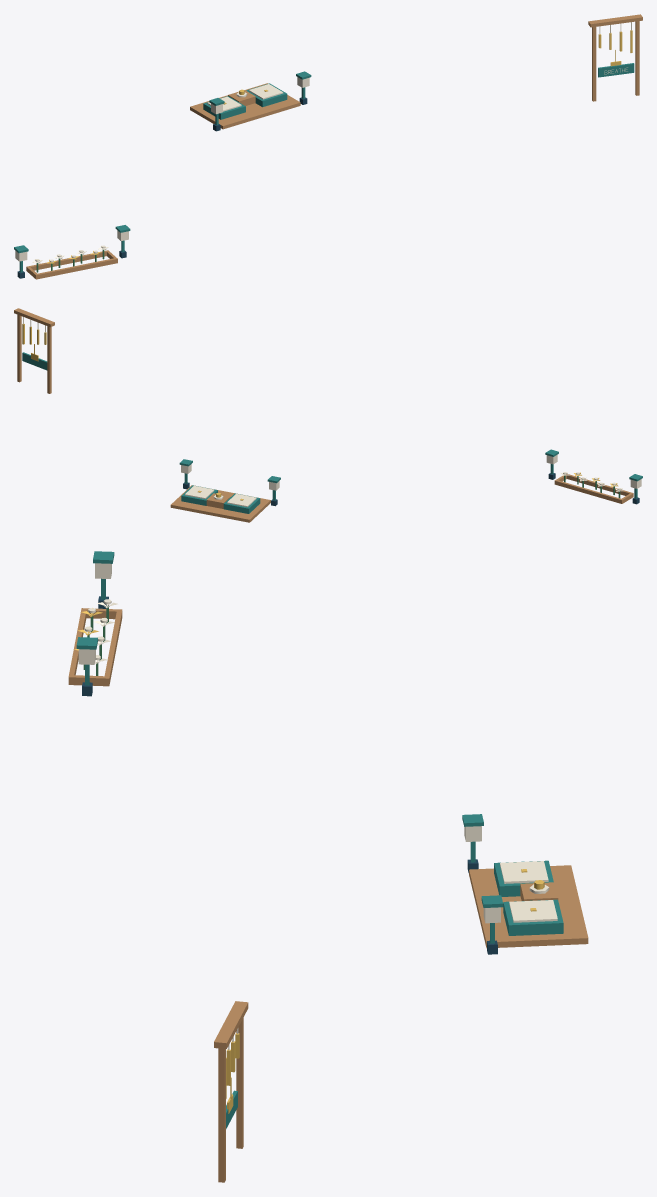
Rendered from affirmation.glb.
3 views of the same model, one above another, from view 1: azimuth 30°, elevation 25°; view 2: azimuth 150°, elevation 25°; view 3: azimuth 270°, elevation 25° (orthographic). The views are drawn at different scales.
Visible parts, largest first — view 1: static_detail_wood, static_detail_teal, static_detail_ivory; view 2: static_detail_wood, static_detail_teal, static_detail_ivory; view 3: static_detail_wood, static_detail_ivory, static_detail_teal.
Boxes of the visible parts, x1=… form: static_detail_wood: x1=26, y1=14, x2=642, y2=279; static_detail_teal: x1=14, y1=63, x2=634, y2=272; static_detail_ivory: x1=15, y1=22, x2=631, y2=263; static_detail_wood: x1=14, y1=308, x2=633, y2=522; static_detail_teal: x1=22, y1=352, x2=642, y2=513; static_detail_ivory: x1=23, y1=317, x2=641, y2=507; static_detail_wood: x1=68, y1=608, x2=588, y2=1182; static_detail_ivory: x1=78, y1=563, x2=557, y2=1050; static_detail_teal: x1=76, y1=551, x2=563, y2=1128.
Size of the model in its own units: 20.8 by 2.37 by 7.86.
